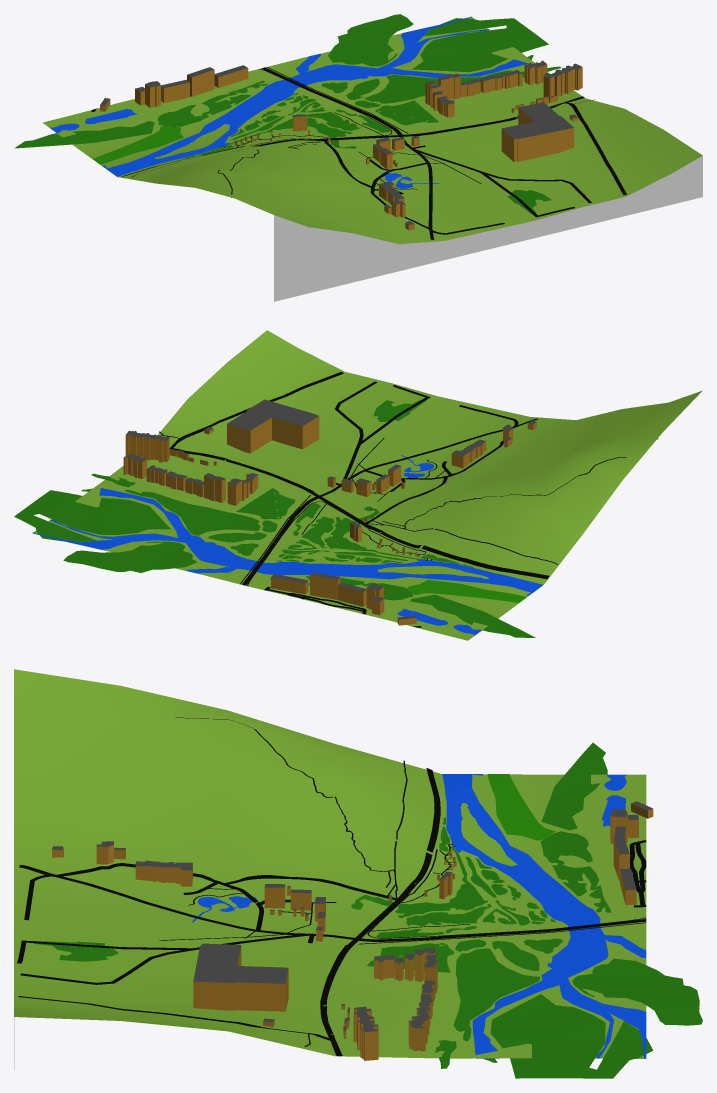
File: tile_07_00.glb
3 renders of one model, top to bottom at view 1: azimuth 30°, elevation 25°; view 2: azimuth 150°, elevation 25°; view 3: azimuth 270°, elevation 25°, orthographic. The views are drawn at different scales.
Parts seen in each view (by area): view 1: Terrain_07_00, Ub_small.osm_forest_07_00, Ub_small.osm_buildings_07_00, Ub_small.osm_water_07_00, Ub_small.osm_roads_residential_07_00, Ub_small.osm_roads_primary_07_00, Ub_small.osm_vegetation_07_00, Ub_small.osm_paths_footway_07_00; view 2: Terrain_07_00, Ub_small.osm_forest_07_00, Ub_small.osm_buildings_07_00, Ub_small.osm_water_07_00, Ub_small.osm_roads_residential_07_00, Ub_small.osm_roads_primary_07_00, Ub_small.osm_paths_footway_07_00, Ub_small.osm_vegetation_07_00, Ub_small.osm_roads_tertiary_07_00; view 3: Terrain_07_00, Ub_small.osm_forest_07_00, Ub_small.osm_buildings_07_00, Ub_small.osm_water_07_00, Ub_small.osm_roads_residential_07_00, Ub_small.osm_roads_primary_07_00, Ub_small.osm_vegetation_07_00, Ub_small.osm_paths_footway_07_00, Ub_small.osm_roads_tertiary_07_00.
Boxes of the visible parts, x1=… form: Terrain_07_00: x1=43, y1=17, x2=702, y2=301; Ub_small.osm_forest_07_00: x1=14, y1=14, x2=561, y2=214; Ub_small.osm_buildings_07_00: x1=100, y1=60, x2=582, y2=230; Ub_small.osm_water_07_00: x1=50, y1=16, x2=528, y2=188; Ub_small.osm_roads_residential_07_00: x1=91, y1=102, x2=626, y2=234; Ub_small.osm_roads_primary_07_00: x1=122, y1=67, x2=584, y2=176; Ub_small.osm_vegetation_07_00: x1=93, y1=126, x2=183, y2=164; Ub_small.osm_paths_footway_07_00: x1=131, y1=68, x2=595, y2=197; Terrain_07_00: x1=33, y1=330, x2=702, y2=640; Ub_small.osm_forest_07_00: x1=14, y1=399, x2=535, y2=637; Ub_small.osm_buildings_07_00: x1=123, y1=399, x2=536, y2=625; Ub_small.osm_water_07_00: x1=32, y1=455, x2=543, y2=635; Ub_small.osm_roads_residential_07_00: x1=170, y1=372, x2=518, y2=627; Ub_small.osm_roads_primary_07_00: x1=170, y1=448, x2=549, y2=585; Ub_small.osm_paths_footway_07_00: x1=159, y1=431, x2=658, y2=586; Ub_small.osm_vegetation_07_00: x1=407, y1=580, x2=526, y2=602; Ub_small.osm_roads_tertiary_07_00: x1=319, y1=418, x2=537, y2=496; Terrain_07_00: x1=14, y1=669, x2=646, y2=1069; Ub_small.osm_forest_07_00: x1=32, y1=742, x2=702, y2=1078; Ub_small.osm_buildings_07_00: x1=52, y1=801, x2=653, y2=1060; Ub_small.osm_water_07_00: x1=192, y1=774, x2=646, y2=1058; Ub_small.osm_roads_residential_07_00: x1=17, y1=840, x2=646, y2=1040; Ub_small.osm_roads_primary_07_00: x1=320, y1=768, x2=646, y2=1056; Ub_small.osm_vegetation_07_00: x1=487, y1=774, x2=555, y2=840; Ub_small.osm_paths_footway_07_00: x1=159, y1=717, x2=645, y2=1046; Ub_small.osm_roads_tertiary_07_00: x1=19, y1=864, x2=354, y2=939.
Size of the model in its own units: 1156 by 189 by 996.
